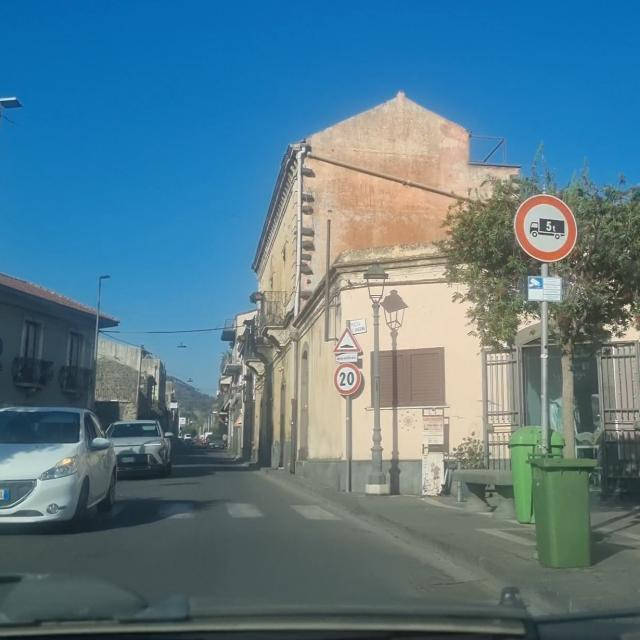forb_speed_over_20: (332, 363, 363, 396)
